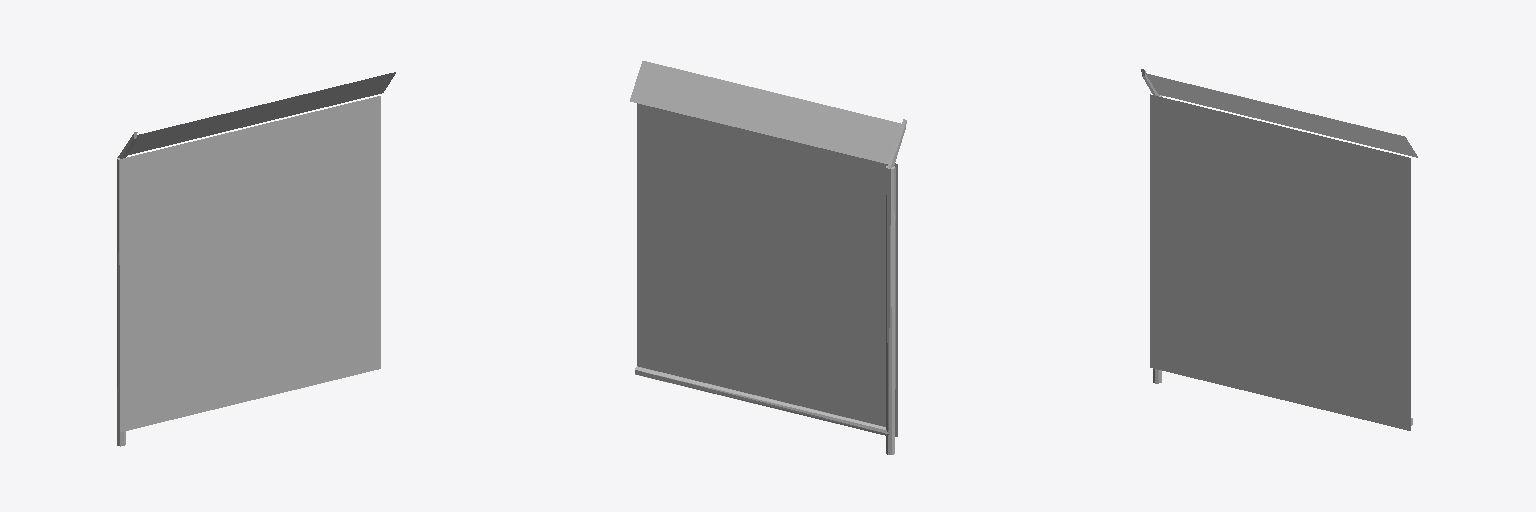
Rendered from fense.obj.
3 views of the same model, side by side, from view 1: azimuth 30°, elevation 25°; view 2: azimuth 150°, elevation 25°; view 3: azimuth 330°, elevation 25° (orthographic).
Parts seen in each view (by area): view 1: Plane.004; view 2: Plane.004; view 3: Plane.004.
Part boxes in pixels (x1,y1,x2,y2): Plane.004: (117,72,395,446); Plane.004: (630,61,906,454); Plane.004: (1141,69,1417,430).
Bounding box in the file's own units: 2.04 × 2.36 × 0.2262.